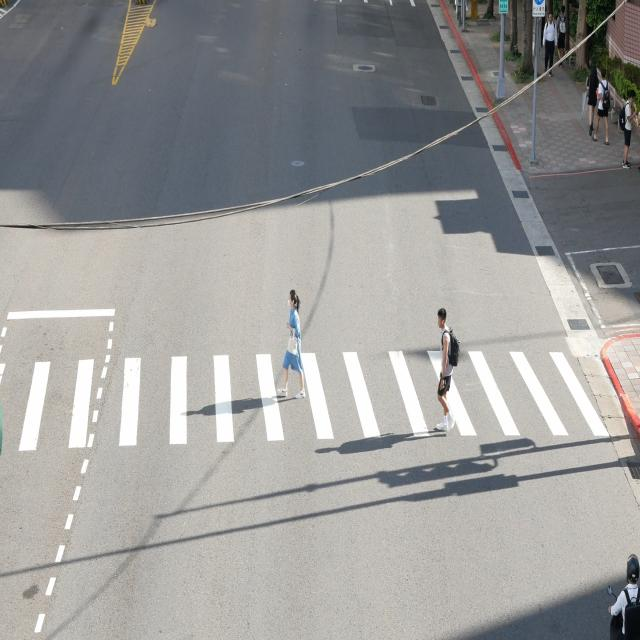pedestrian: (278, 290, 305, 398), (437, 316, 452, 430)
